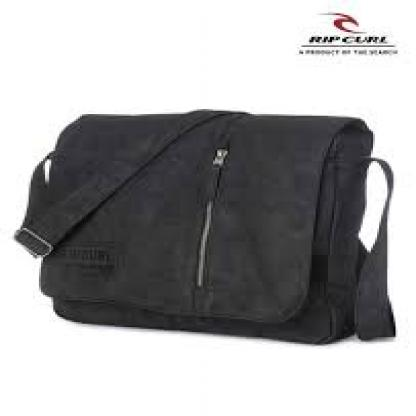morral: (10, 102, 408, 354)
